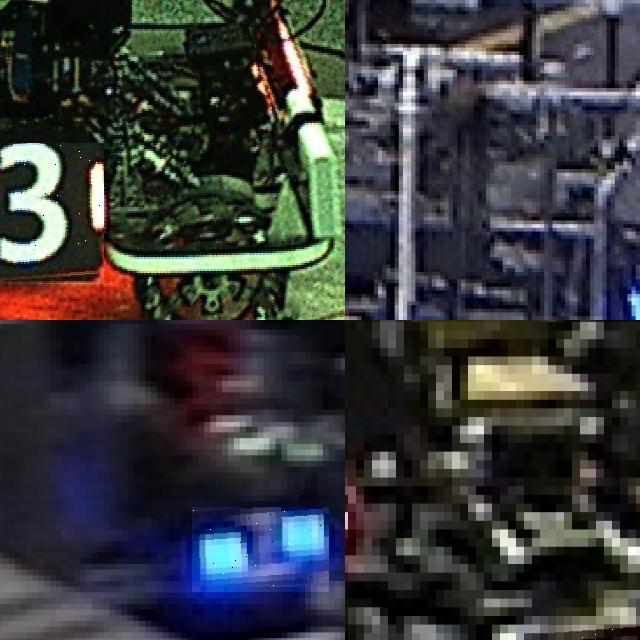B2: (192, 507, 329, 592)
R2: (606, 242, 640, 320)
R3: (0, 142, 104, 284)
